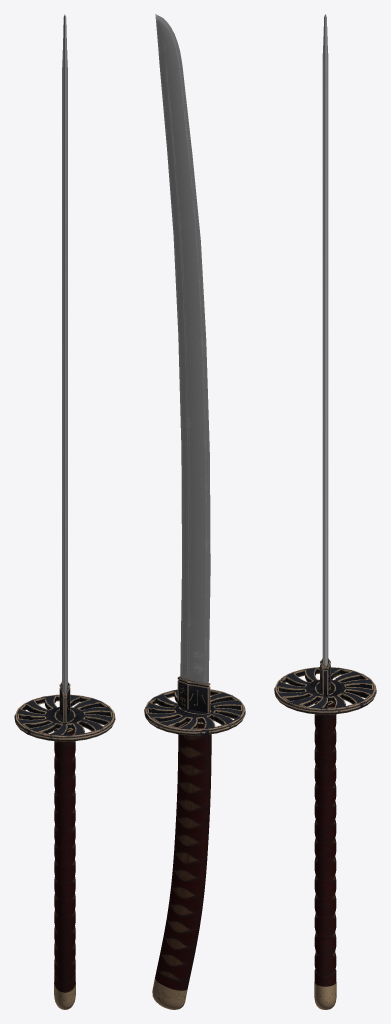
Rendered from Catana_Antigua-v1.glb.
3 renders of one model, left to right at view 1: azimuth 90°, elevation 25°; view 2: azimuth 150°, elevation 25°; view 3: azimuth 270°, elevation 25°, orthographic.
Visible parts, largest first — view 1: antique_katana_01; view 2: antique_katana_01; view 3: antique_katana_01.
Boxes of the visible parts, x1,y1,x2,y2 form: antique_katana_01: (14, 14, 115, 1009); antique_katana_01: (144, 14, 245, 1009); antique_katana_01: (274, 14, 376, 1009).
Bounding box in the file's own units: 0.0934 × 1 × 0.0934.
Materials: 1 (1 with a texture image).
